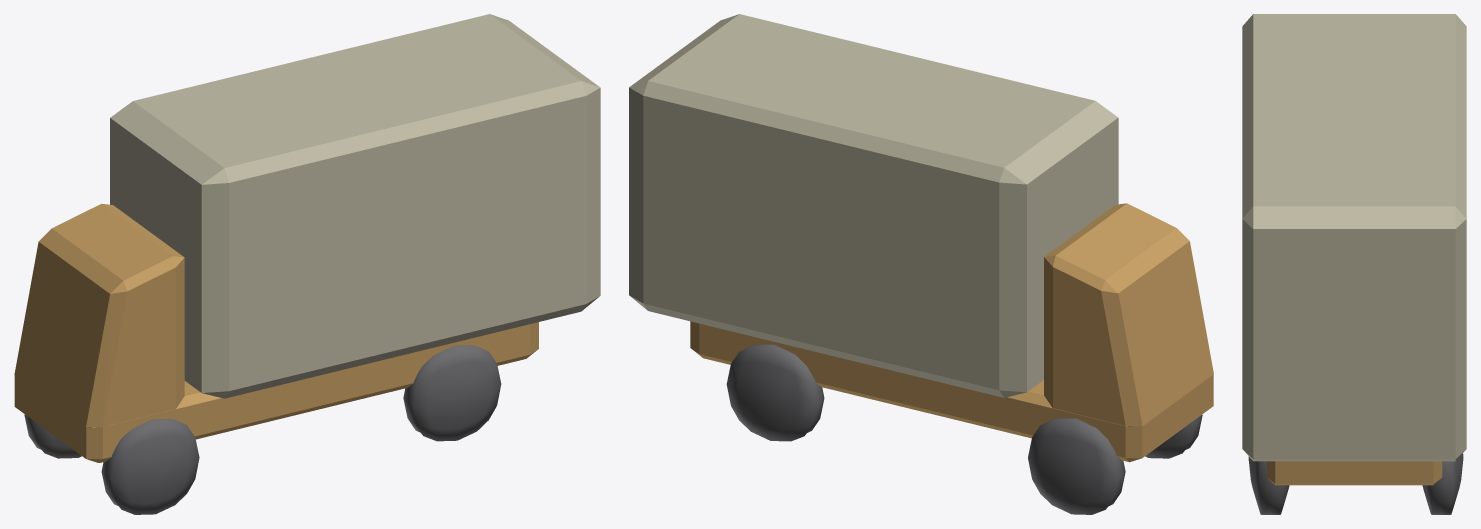
File: track.obj
3 renders of one model, left to right at view 1: azimuth 30°, elevation 25°; view 2: azimuth 150°, elevation 25°; view 3: azimuth 270°, elevation 25°, orthographic. The views are drawn at different scales.
Visible parts, largest first — view 1: 立方体, 立方体.001, 立方体.005; view 2: 立方体, 立方体.001, 立方体.005; view 3: 立方体, 立方体.001, 立方体.005.
Part boxes in pixels (box(x1,y1,x2,y2)): 立方体: box(110, 14, 600, 398); 立方体.001: box(14, 203, 538, 462); 立方体.005: box(24, 345, 501, 514); 立方体: box(629, 14, 1118, 397); 立方体.001: box(690, 203, 1213, 462); 立方体.005: box(726, 344, 1202, 514); 立方体: box(1242, 14, 1466, 461); 立方体.001: box(1266, 461, 1442, 485); 立方体.005: box(1248, 453, 1463, 514).
Size of the model in its own units: 10.06 by 6.35 by 3.5.
1 material, 1 textured.
